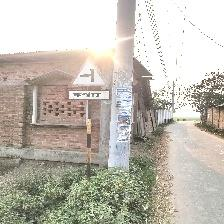Side-road-left: (69, 55, 109, 98)
